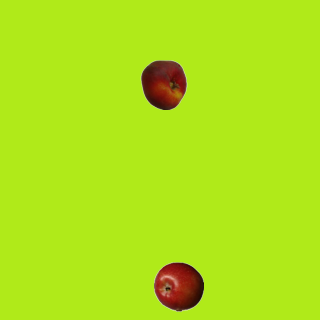Apple Braeburn: (153, 261, 203, 311)
Nectarine Flat: (138, 59, 188, 109)
